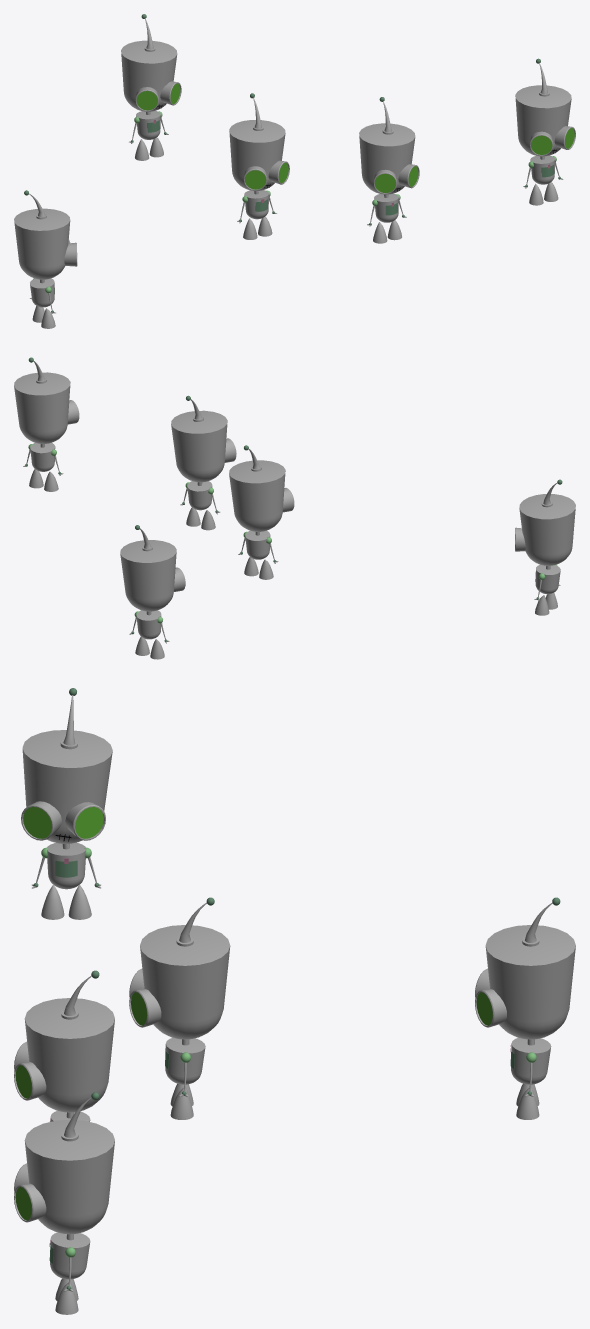
The model's file is gir_scene.fbx.
The picture shows the model from 3 angles, top to bottom: view 1: azimuth 30°, elevation 25°; view 2: azimuth 150°, elevation 25°; view 3: azimuth 270°, elevation 25°; orthographic projection. The views are drawn at different scales.
Parts seen in each view (by area): view 1: cabeza (×5), cuerpo (×5), ojo_der (×4), ojo_izq (×4); view 2: cabeza (×5), cuerpo (×5); view 3: cabeza (×5), cuerpo (×4), ojo_izq (×5), ojo_der.
Part boxes in pixels (x1,y1,x2,y2): cabeza (×5): [14, 40, 571, 279]; cuerpo (×5): [30, 111, 554, 307]; ojo_der (×4): [135, 87, 553, 194]; ojo_izq (×4): [160, 81, 575, 188]; cabeza (×5): [14, 372, 575, 611]; cuerpo (×5): [30, 442, 560, 639]; cabeza (×5): [22, 730, 575, 1234]; cuerpo (×4): [47, 842, 551, 1279]; ojo_izq (×5): [14, 802, 506, 1222]; ojo_der: [21, 801, 61, 840].
Bounding box in the file's own units: 44.09 × 10.28 × 24.39.
